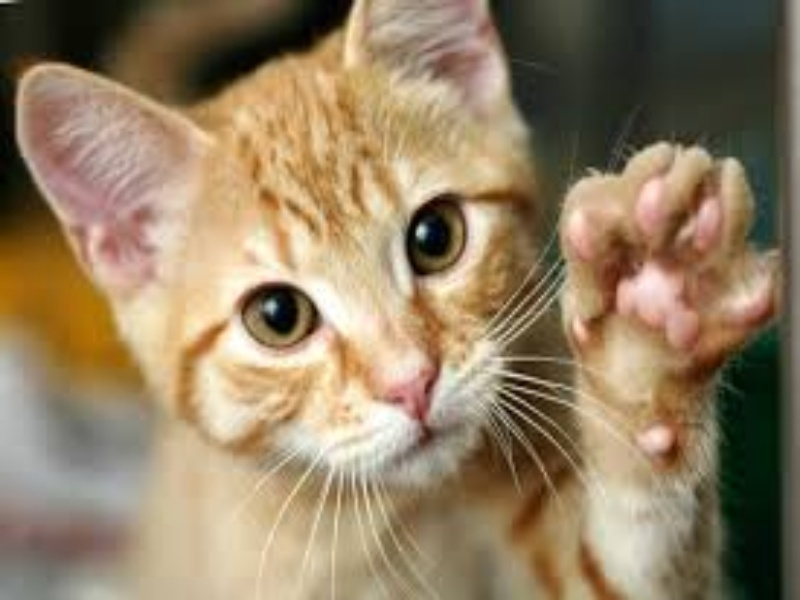cat: (14, 3, 793, 600)
